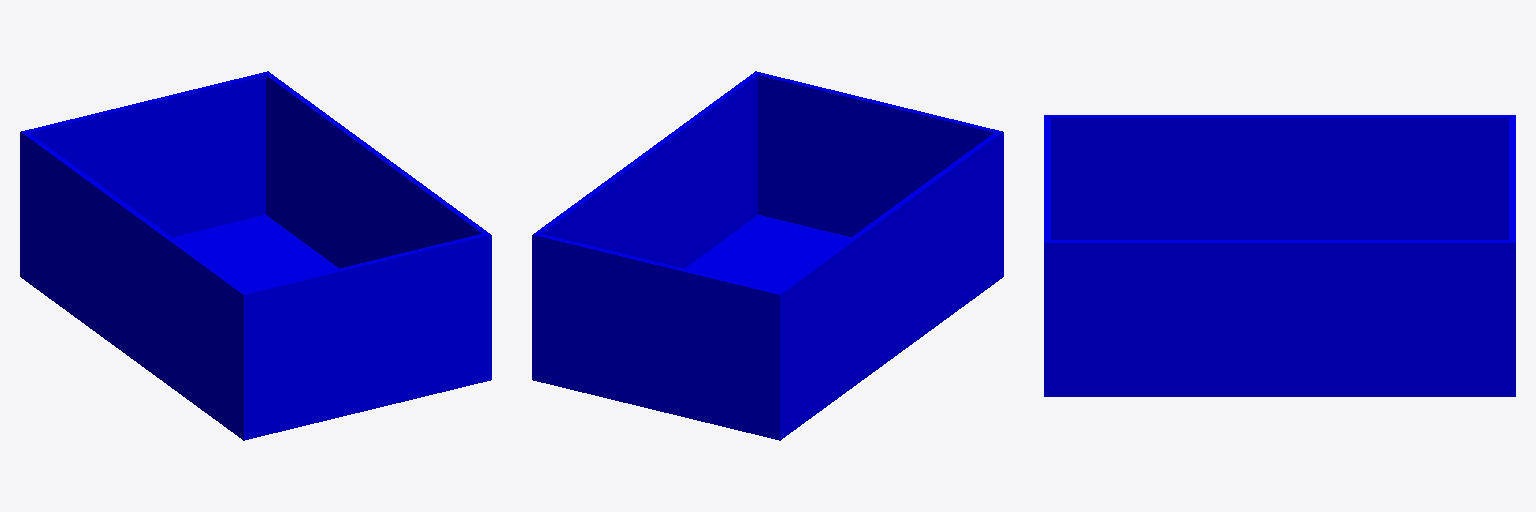
robot.urdf — bin:
<?xml version="1.0"?>

<robot name="bin">

  <link name="bin_down">
    <contact>
      <restitution value="1.0e-8" />
      <!-- <lateral_friction value="1.0e+8"/>
      <rolling_friction value="1.0e+8"/>
      <spinning_friction value="1.0e+8"/> -->
      <contact_cfm value="0.00001"/>
      <contact_erp value="0.2"/>
    </contact>   
    
    <inertial>
      <origin xyz="0 0 0" />
      <mass value="0.05" />
      <inertia  ixx="1.0" ixy="0.0"  ixz="0.0"  iyy="1.0"  iyz="0.0"  izz="1.0" />
    </inertial>

    <visual>
      <origin xyz="0 0 0"/>
      <geometry>
        <box size="0.13 0.2 0.003" />
      </geometry>
      <material name="blue">
	      <color rgba=".0 .0 1.0 1.0"/>
      </material>
    </visual>

    <collision>
      <origin xyz="0 0 0"/>
      <geometry>
        <box size="0.13 0.2 0.003" />
      </geometry>
    </collision>
  </link>

  <joint name="0" type="fixed">
    <parent link="bin_down"/>
    <child link="bin_left"/>
    <origin rpy="0.0 0.0 0.0" xyz="-0.0635 0. 0.035" />
  </joint>

  <link name="bin_left">
    <contact>
      <restitution value="1.0e-8" />
      <!-- <lateral_friction value="1.0e+8"/>
      <rolling_friction value="1.0e+8"/>
      <spinning_friction value="1.0e+8"/> -->
      <contact_cfm value="0.00001"/>
      <contact_erp value="0.2"/>
    </contact>   
    
    <inertial>
      <origin xyz="0 0 0" />
      <mass value="0.05" />
      <inertia  ixx="1.0" ixy="0.0"  ixz="0.0"  iyy="1.0"  iyz="0.0"  izz="1.0" />
    </inertial>
    
    <visual>
      <origin xyz="0 0 0"/>
      <geometry>
        <box size="0.003 0.2 0.073"/>
      </geometry>
      <material name="blue">
	      <color rgba=".0 .0 1.0 1.0"/>
      </material>
    </visual>
    
    <collision>
      <origin xyz="0 0 0"/>
      <geometry>
        <box size="0.003 0.2 0.073"/>
      </geometry>
    </collision>
  
  </link>

  <joint name="1" type="fixed">
    <parent link="bin_left"/>
    <child link="bin_back"/>
    <origin rpy="0.0 0.0 0.0" xyz="0.0635 0.1 0" />
  </joint>

  <link name="bin_back">
    <contact>
      <restitution value="1.0e-8" />
      <!-- <lateral_friction value="1.0e+8"/>
      <rolling_friction value="1.0e+8"/>
      <spinning_friction value="1.0e+8"/> -->
      <contact_cfm value="0.00001"/>
      <contact_erp value="0.2"/>
    </contact>   
    
    <inertial>
      <origin xyz="0 0 0" />
      <mass value="0.05" />
      <inertia  ixx="1.0" ixy="0.0"  ixz="0.0"  iyy="1.0"  iyz="0.0"  izz="1.0" />
    </inertial>
    
    <visual>
      <origin xyz="0 0 0"/>
      <geometry>
        <box size="0.13 0.003 0.073"/>
      </geometry>
      <material name="blue">
	      <color rgba=".0 .0 1.0 1.0"/>
      </material>
    </visual>
    
    <collision>
      <origin xyz="0 0 0"/>
      <geometry>
        <box size="0.13 0.003 0.073"/>
      </geometry>
    </collision>
  </link>


  <joint name="2" type="fixed">
    <parent link="bin_back"/>
    <child link="bin_right"/>
    <origin rpy="0.0 0.0 0.0" xyz="0.0635 -0.1 0" />
  </joint>


  <link name="bin_right">
    <contact>
      <restitution value="1.0e-8" />
      <!-- <lateral_friction value="1.0e+8"/>
      <rolling_friction value="1.0e+8"/>
      <spinning_friction value="1.0e+8"/> -->
      <contact_cfm value="0.00001"/>
      <contact_erp value="0.2"/>
    </contact>   
    
    <inertial>
      <origin xyz="0 0 0" />
      <mass value="0.05" />
      <inertia  ixx="1.0" ixy="0.0"  ixz="0.0"  iyy="1.0"  iyz="0.0"  izz="1.0" />
    </inertial>
    
    <visual>
      <origin xyz="0 0 0"/>
      <geometry>
        <box size="0.003 0.2 0.073"/>
      </geometry>
      <material name="blue">
	      <color rgba=".0 .0 1.0 1.0"/>
      </material>
    </visual>
    
    <collision>
      <origin xyz="0 0 0"/>
      <geometry>
        <box size="0.003 0.2 0.073"/>
      </geometry>
    </collision>
  </link>

  <joint name="3" type="fixed">
    <parent link="bin_right"/>
    <child link="bin_front"/>
    <origin rpy="0.0 0.0 0.0" xyz="-0.0635 -0.1 0" />
  </joint>

  <link name="bin_front">
    <contact>
      <restitution value="1.0e-8" />
      <!-- <lateral_friction value="1.0e+8"/>
      <rolling_friction value="1.0e+8"/>
      <spinning_friction value="1.0e+8"/> -->
      <contact_cfm value="0.00001"/>
      <contact_erp value="0.2"/>
    </contact>   
    
    <inertial>
      <origin xyz="0 0 0" />
      <mass value="0.05" />
      <inertia  ixx="1.0" ixy="0.0"  ixz="0.0"  iyy="1.0"  iyz="0.0"  izz="1.0" />
    </inertial>
    
    <visual>
      <origin xyz="0 0 0"/>
      <geometry>
        <box size="0.13 0.003 0.073"/>
      </geometry>
      <material name="blue">
	      <color rgba=".0 .0 1.0 1.0"/>
      </material>
    </visual>
    
    <collision>
      <origin xyz="0 0 0"/>
      <geometry>
       <box size="0.13 0.003 0.073"/>
      </geometry>
    </collision>
  </link>

</robot>

--- What the picture shows (computed from the rendered views, not written in the file) ---
3 views of the same robot in one strip: view 1: azimuth 30°, elevation 25°; view 2: azimuth 150°, elevation 25°; view 3: azimuth 270°, elevation 25° (orthographic).
Robot: bin — 5 links, 4 joints (4 fixed); root link bin_down; default pose: every joint at zero.
Visible links, largest first — view 1: bin_front, bin_left, bin_back, bin_right, bin_down; view 2: bin_back, bin_left, bin_front, bin_right, bin_down; view 3: bin_right, bin_left, bin_down, bin_back, bin_front.
Boxes of the visible links, x1=… form: bin_front: x1=241, y1=232, x2=491, y2=440; bin_left: x1=22, y1=132, x2=247, y2=437; bin_back: x1=20, y1=71, x2=270, y2=277; bin_right: x1=266, y1=74, x2=489, y2=268; bin_down: x1=22, y1=215, x2=338, y2=438; bin_back: x1=532, y1=232, x2=782, y2=440; bin_left: x1=776, y1=132, x2=1001, y2=435; bin_front: x1=754, y1=71, x2=1003, y2=277; bin_right: x1=534, y1=73, x2=758, y2=268; bin_down: x1=685, y1=215, x2=1001, y2=437; bin_right: x1=1048, y1=240, x2=1511, y2=396; bin_left: x1=1048, y1=115, x2=1511, y2=239; bin_down: x1=1048, y1=390, x2=1511, y2=396; bin_back: x1=1509, y1=115, x2=1515, y2=396; bin_front: x1=1044, y1=115, x2=1050, y2=396.
Size in the robot's own frame: 0.13 by 0.203 by 0.073 metres.
Geometry: primitives only (box / cylinder / sphere), no mesh files.